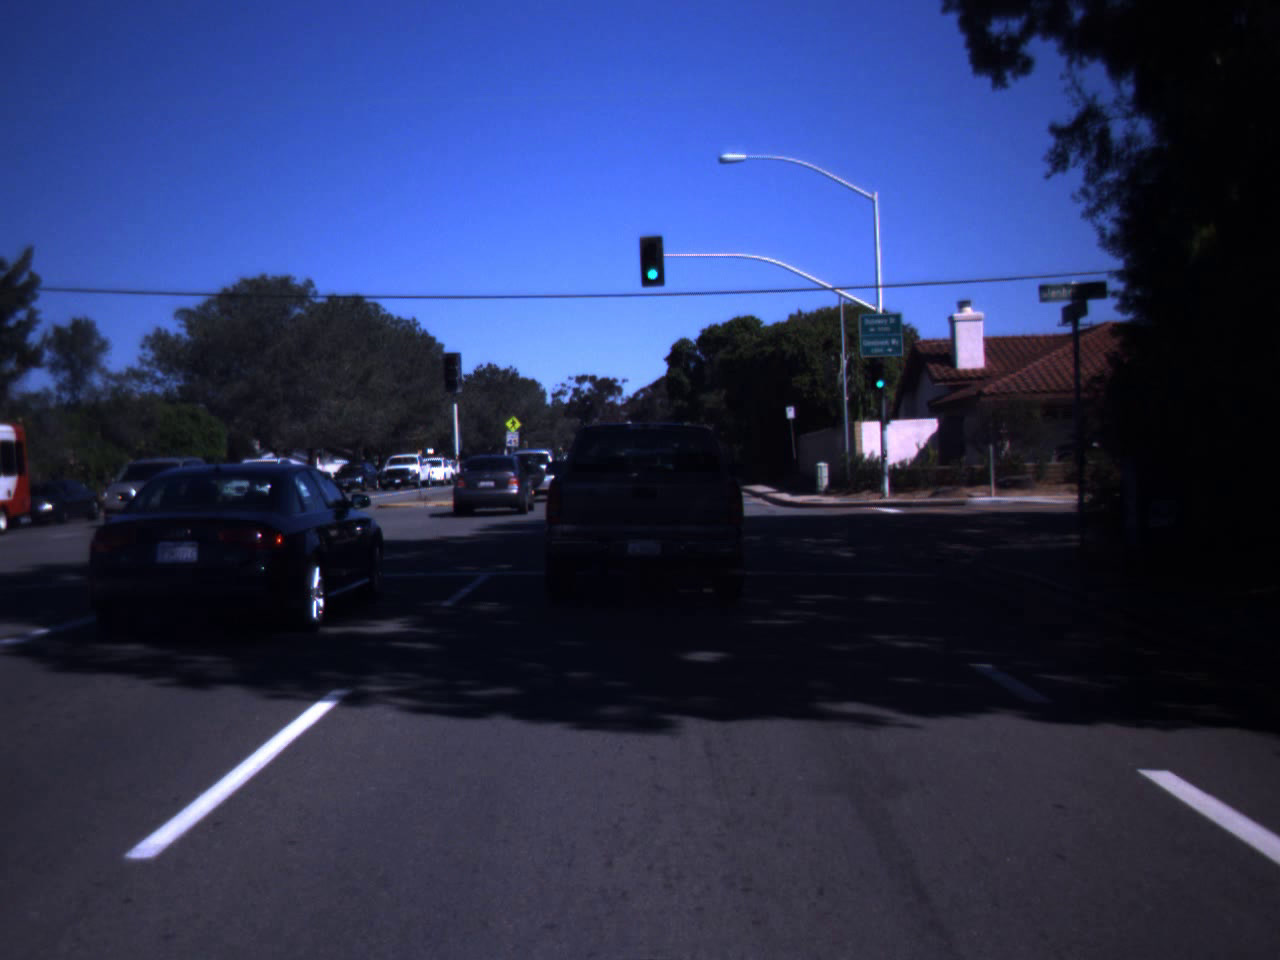go: (639, 238, 666, 283), (872, 364, 887, 389)
